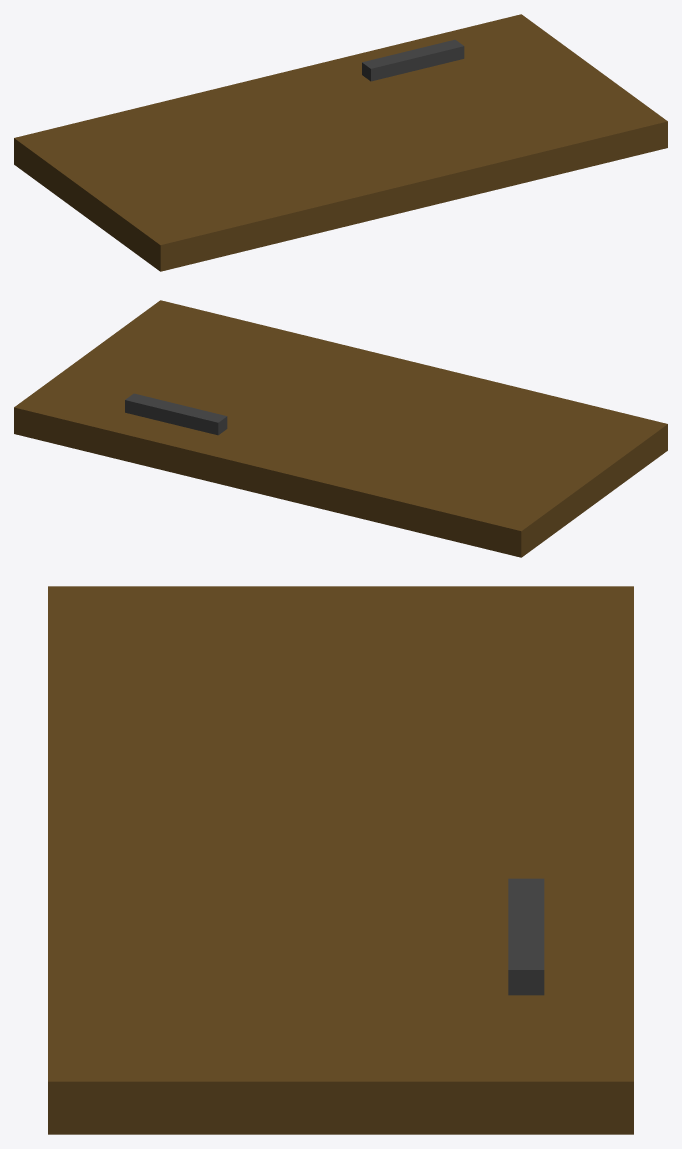
Rendered from HatchDoor.gltf.
3 views of the same model, one above another, from view 1: azimuth 30°, elevation 25°; view 2: azimuth 150°, elevation 25°; view 3: azimuth 270°, elevation 25° (orthographic). The views are drawn at different scales.
Parts seen in each view (by area): view 1: Door-col, Handle; view 2: Door-col, Handle; view 3: Door-col, Handle.
Boxes of the visible parts, x1,y1,x2,y2 form: Door-col: (14, 14, 667, 271); Handle: (362, 39, 464, 81); Door-col: (14, 300, 667, 557); Handle: (125, 393, 227, 435); Door-col: (48, 586, 633, 1134); Handle: (508, 878, 544, 995).
Size of the model in its own units: 2 by 0.1475 by 1.
